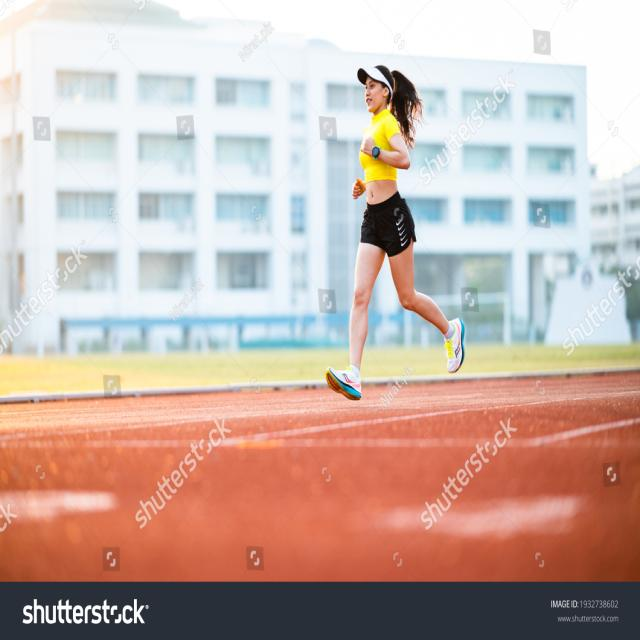running: (324, 64, 468, 400)
